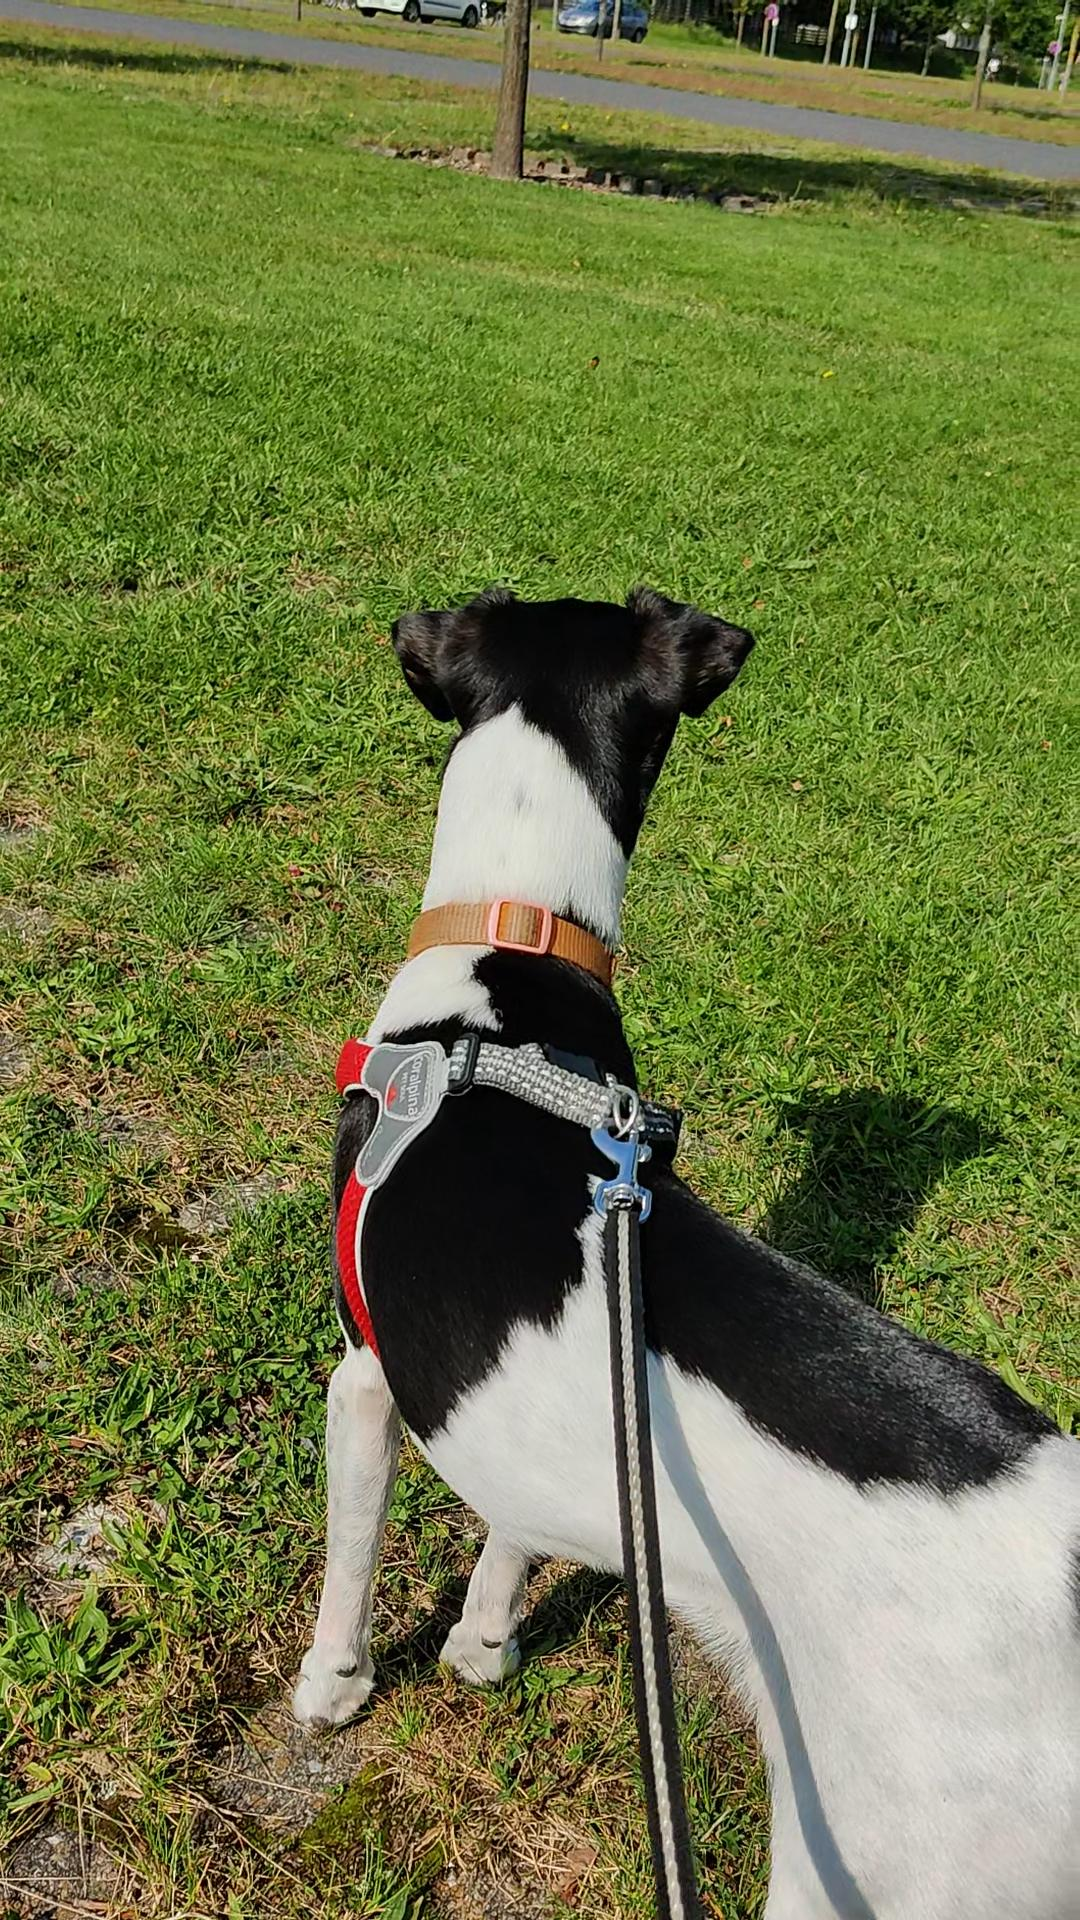Dog: (278, 576, 1079, 1919)
